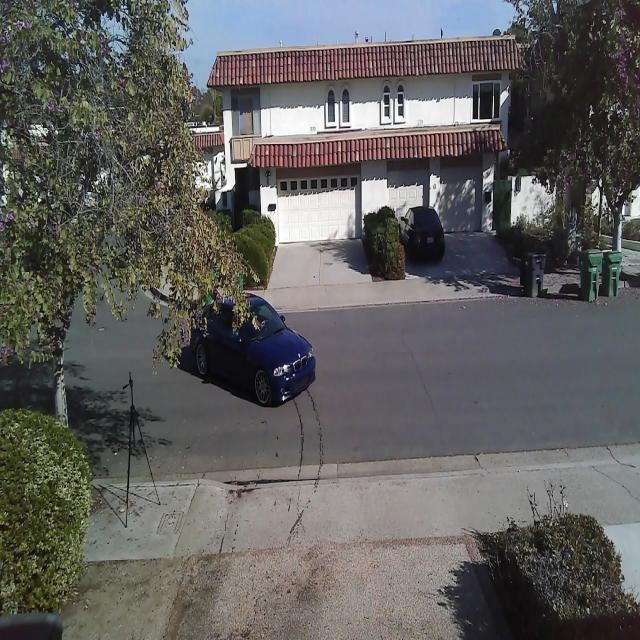Carbeetle: (187, 288, 316, 410)
Civilian: (399, 206, 446, 263)
